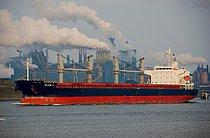Ship: (16, 48, 201, 108)
